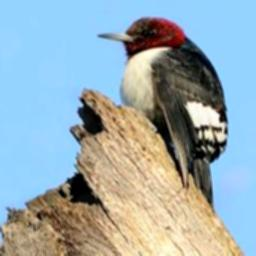Woodpecker: (96, 16, 230, 207)
